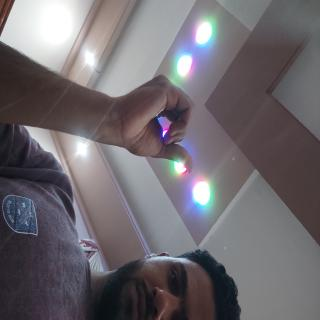WAW: (54, 159, 130, 279)
